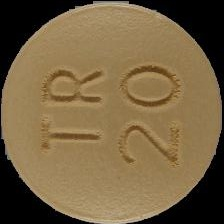60505-3454: (0, 0, 224, 224)
